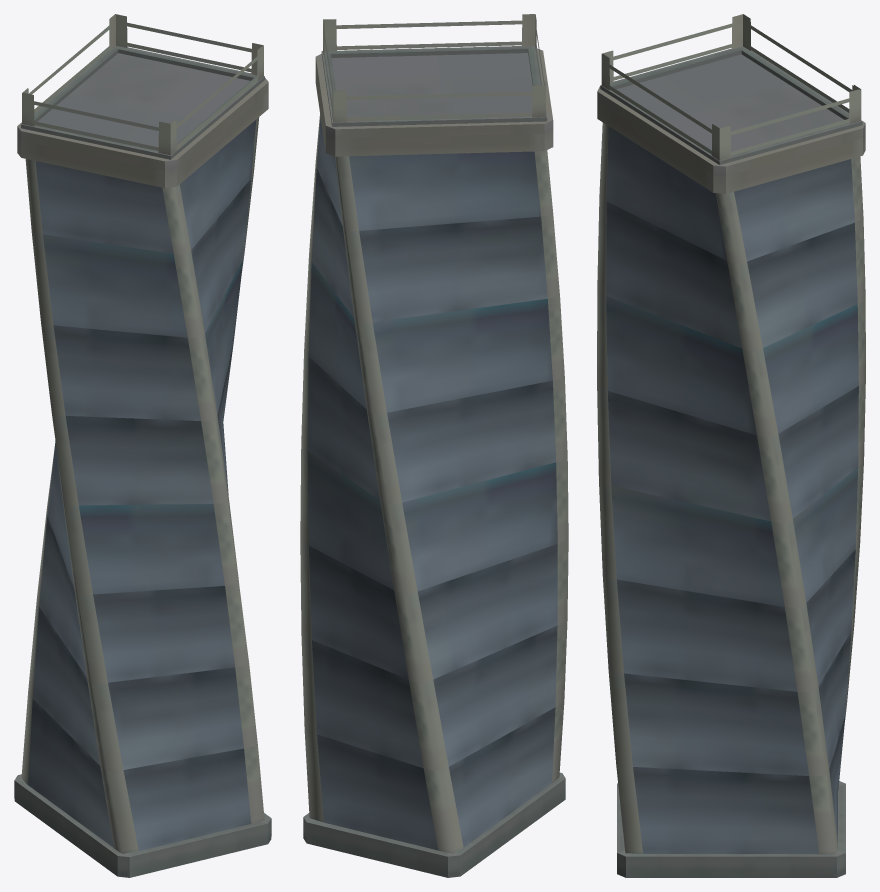
Rendered from pref_sm_city_building03_snow_lv3.fbx.
3 views of the same model, side by side, from view 1: azimuth 30°, elevation 25°; view 2: azimuth 150°, elevation 25°; view 3: azimuth 270°, elevation 25° (orthographic). The views are drawn at different scales.
Parts seen in each view (by area): view 1: pref_sm_city_building03_snow_lv3; view 2: pref_sm_city_building03_snow_lv3; view 3: pref_sm_city_building03_snow_lv3.
Boxes of the visible parts, x1=… form: pref_sm_city_building03_snow_lv3: x1=14, y1=14, x2=271, y2=877; pref_sm_city_building03_snow_lv3: x1=300, y1=14, x2=568, y2=877; pref_sm_city_building03_snow_lv3: x1=597, y1=14, x2=865, y2=877.
Bounding box in the file's own units: 19.1 × 57.59 × 18.27.
Materials: 1 (1 with a texture image).
